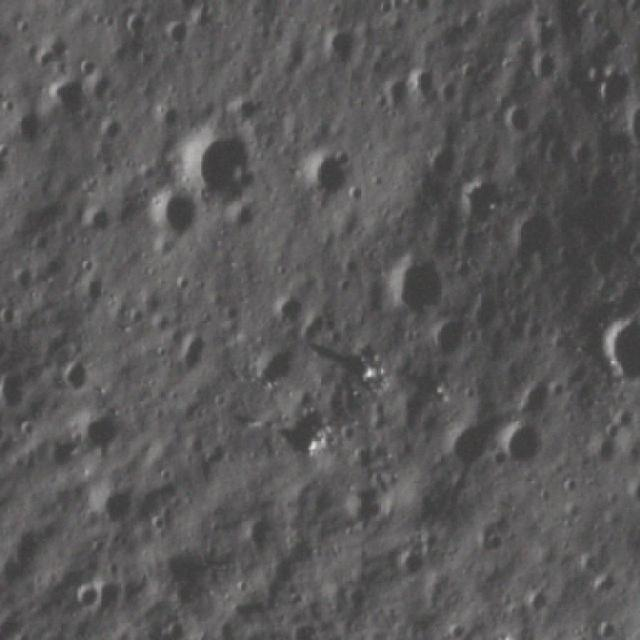crater: (185, 119, 269, 210), (386, 261, 448, 324), (300, 146, 362, 205), (449, 176, 511, 233), (595, 314, 640, 392), (445, 419, 503, 478), (149, 189, 203, 251), (340, 478, 394, 540), (244, 340, 302, 392), (493, 421, 550, 473), (504, 205, 554, 264), (88, 480, 144, 531), (424, 311, 470, 367), (78, 408, 127, 459), (368, 70, 414, 121), (317, 22, 360, 73), (46, 72, 96, 115), (175, 327, 211, 381), (516, 381, 561, 422), (9, 106, 51, 148), (73, 573, 113, 616), (78, 270, 113, 319), (424, 140, 464, 182), (74, 202, 114, 244), (266, 288, 305, 329), (404, 60, 442, 102), (56, 357, 92, 401), (158, 15, 196, 56), (112, 8, 158, 40), (527, 52, 562, 90), (506, 102, 536, 140), (169, 0, 211, 11)
